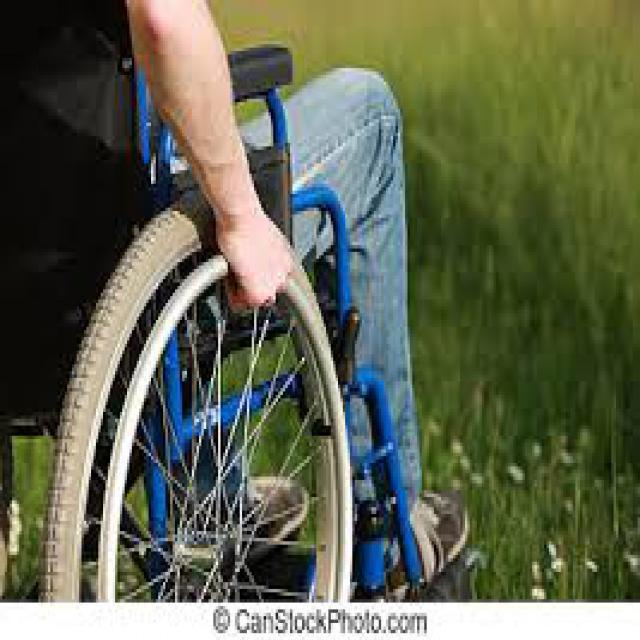wheelchairs: (0, 0, 420, 593)
